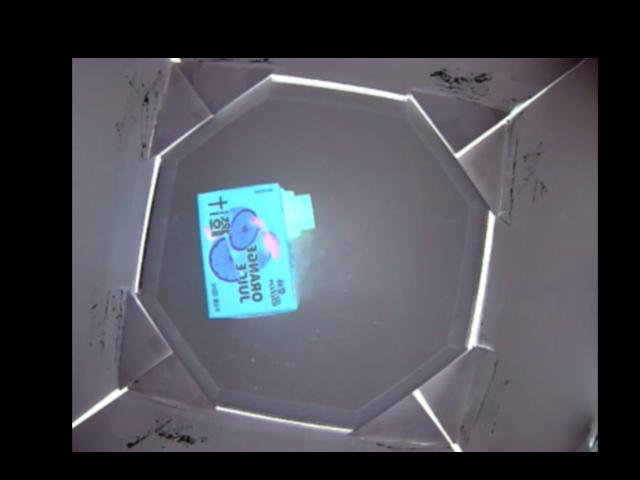Bottle: (196, 184, 316, 319)
